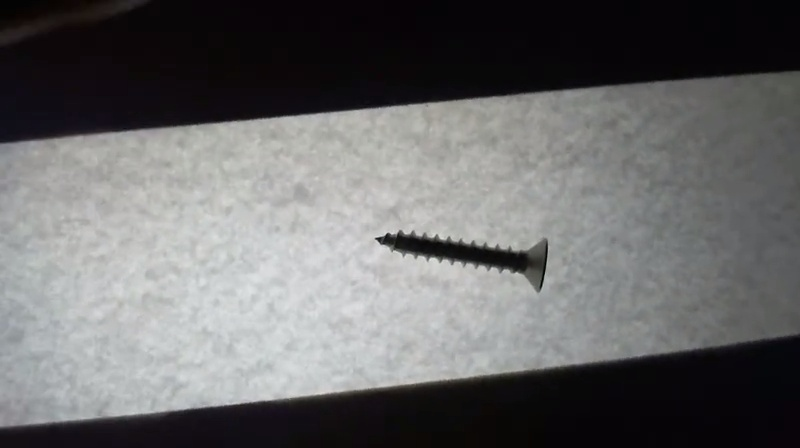S001: (370, 226, 552, 294)
